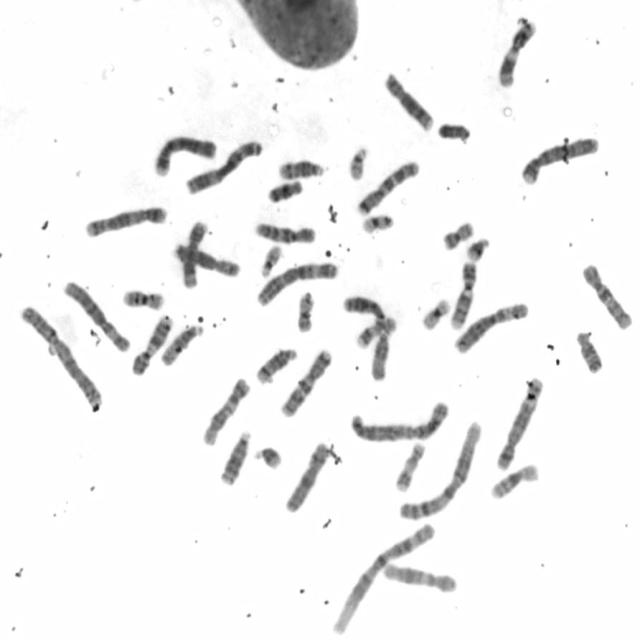A1: (332, 522, 436, 636), (397, 420, 483, 522)
A2: (21, 304, 103, 407), (350, 400, 451, 444)
A3: (185, 140, 262, 196), (256, 262, 337, 307)
B4: (522, 134, 600, 187), (152, 134, 219, 177)
B5: (495, 375, 544, 472), (84, 206, 169, 240)
C10: (582, 263, 634, 331), (254, 222, 316, 245)
C11: (498, 20, 537, 88), (182, 220, 208, 290)
C12: (200, 378, 250, 448), (382, 562, 458, 594)
C6: (64, 279, 132, 354), (452, 301, 530, 355)
C7: (278, 348, 333, 418), (356, 160, 420, 218)
C8: (385, 73, 435, 133), (172, 243, 242, 277)
C9: (130, 314, 174, 377), (449, 261, 478, 330)
D13: (218, 431, 253, 487), (343, 294, 387, 323)
D14: (255, 346, 300, 386), (276, 158, 326, 181)
D15: (160, 323, 204, 368), (370, 329, 391, 382)
E16: (488, 462, 539, 501), (122, 289, 165, 311)
E17: (395, 440, 426, 494), (356, 315, 398, 350)
E18: (574, 330, 604, 375), (268, 179, 304, 204)
F19: (420, 297, 451, 332), (361, 213, 395, 235)
F20: (440, 220, 476, 252), (296, 290, 316, 334)
G21: (253, 446, 283, 471), (465, 237, 491, 263)
G22: (346, 143, 372, 182), (260, 244, 283, 278)
X: (283, 441, 330, 514)
Y: (438, 122, 472, 143)
